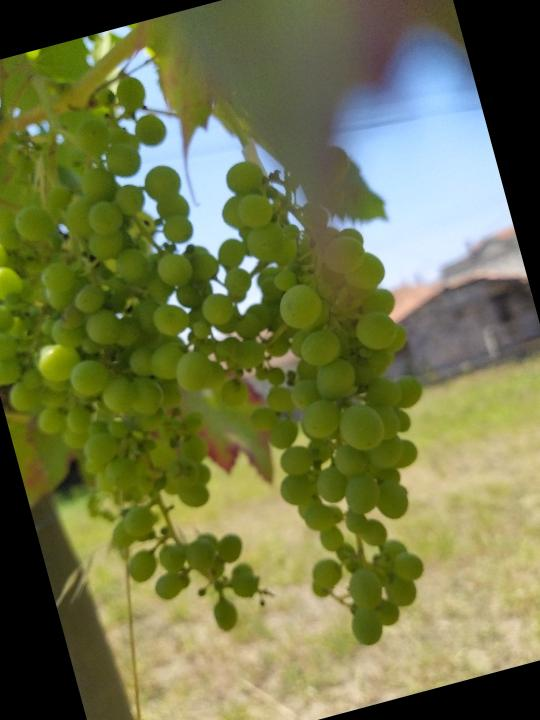grape: (0, 63, 311, 672), (191, 129, 486, 663)
